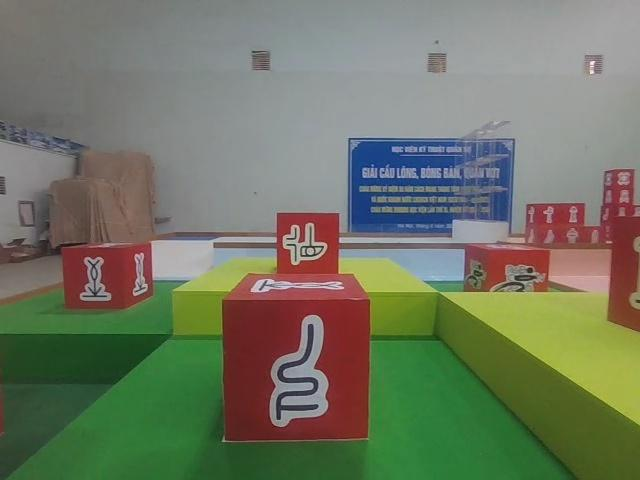R1: (460, 240, 552, 303)
R2 Fake: (220, 273, 373, 443)
R2 Real: (62, 241, 154, 308), (277, 212, 338, 275)
